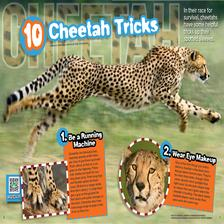Cheetah: (3, 45, 224, 162), (124, 149, 170, 214), (26, 164, 69, 211)
